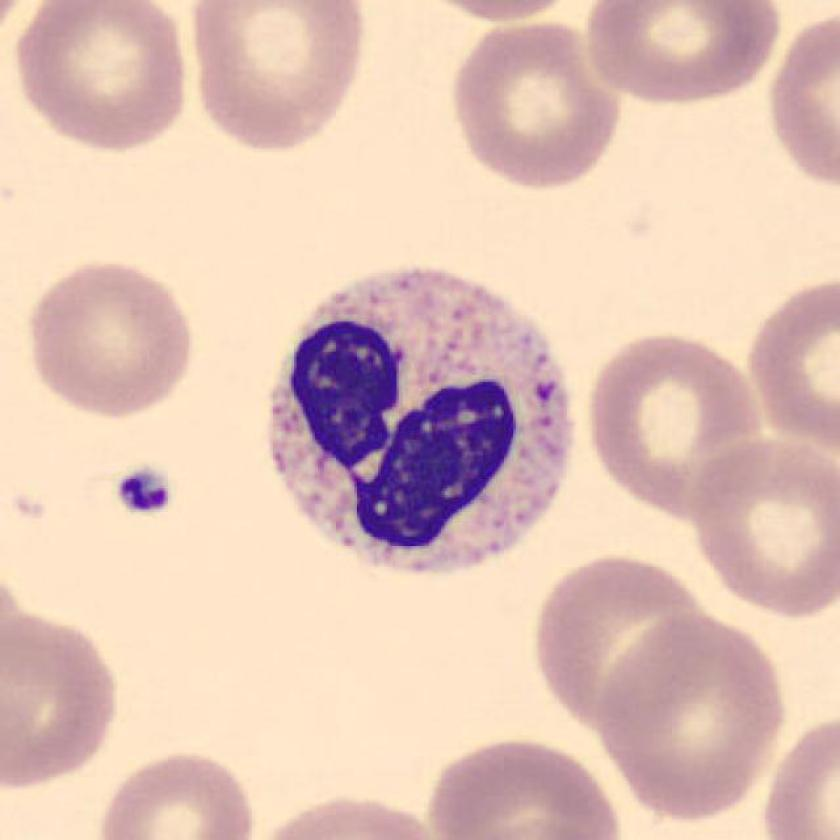neutrophil: (269, 266, 577, 583)
